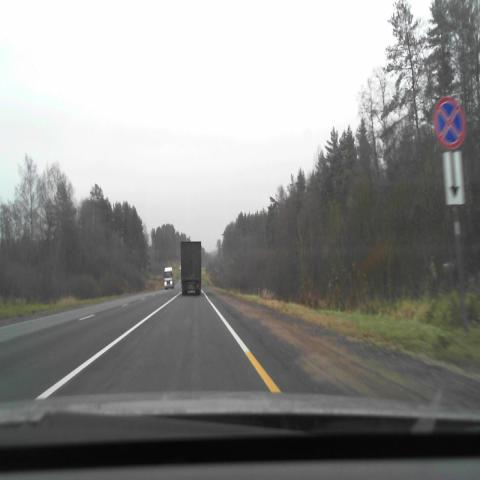8_2_3: (443, 152, 465, 205)
